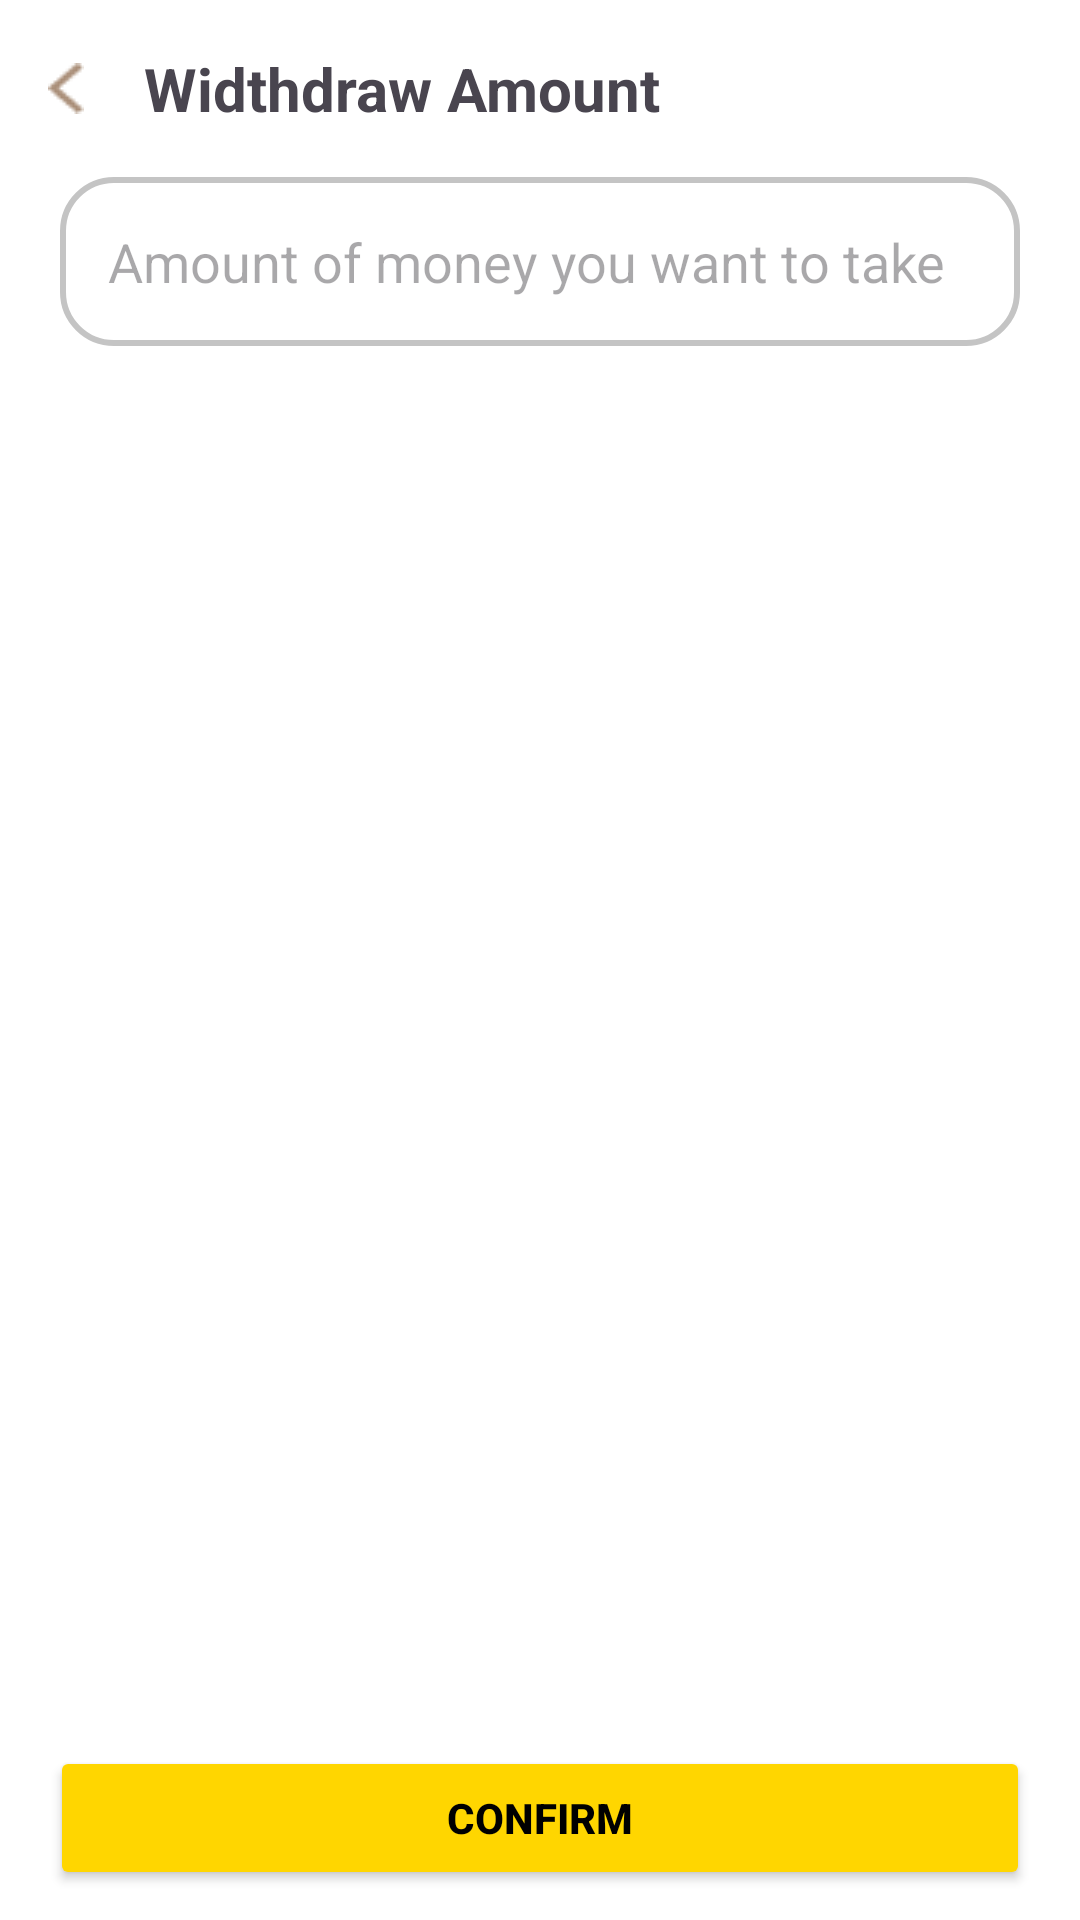

Named icons in this screenshot (1080*1920) and their centers, (x=x, y=y):
back arrow: (x=66, y=88)
